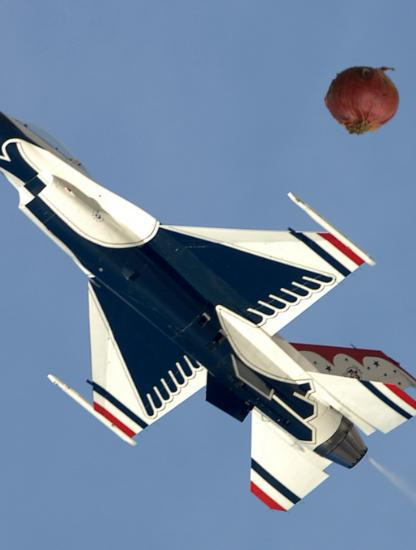Onion: (317, 57, 407, 147)
